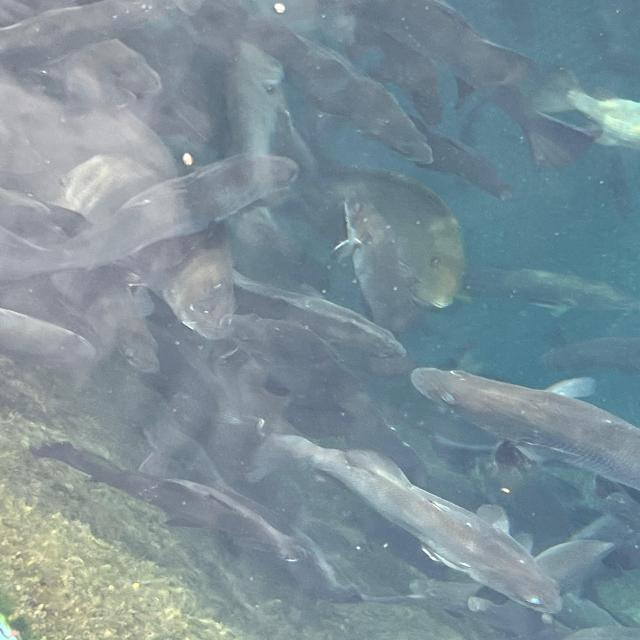ikan: (28, 438, 426, 606), (252, 431, 568, 621), (348, 0, 604, 172), (1, 150, 301, 282), (408, 365, 638, 493)
